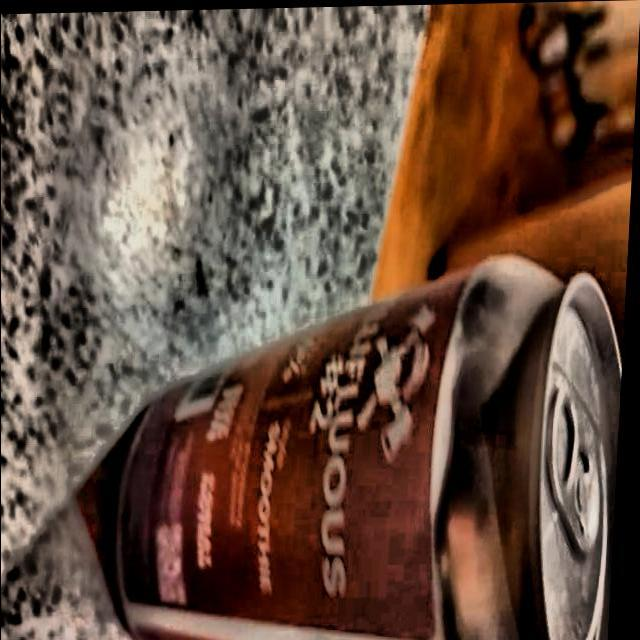litter: (96, 238, 630, 640)
